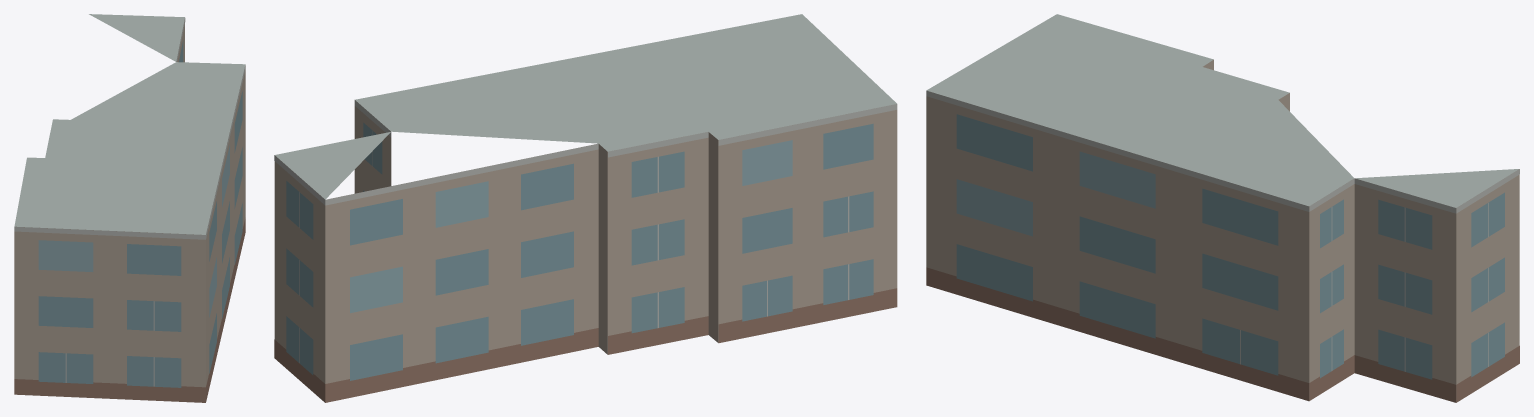
File: survey-upis-32832210.glb
The picture shows the model from 3 angles, left to right: view 1: azimuth 30°, elevation 25°; view 2: azimuth 150°, elevation 25°; view 3: azimuth 270°, elevation 25°; orthographic projection. The views are drawn at different scales.
Visible parts, largest first — view 1: survey-upis-32832210.tmp; view 2: survey-upis-32832210.tmp; view 3: survey-upis-32832210.tmp.
Part boxes in pixels (bbox=[...]): survey-upis-32832210.tmp: bbox=[14, 14, 245, 402]; survey-upis-32832210.tmp: bbox=[274, 14, 897, 402]; survey-upis-32832210.tmp: bbox=[926, 14, 1519, 402].
Bounding box in the file's own units: 18.06 × 8.45 × 23.34.
